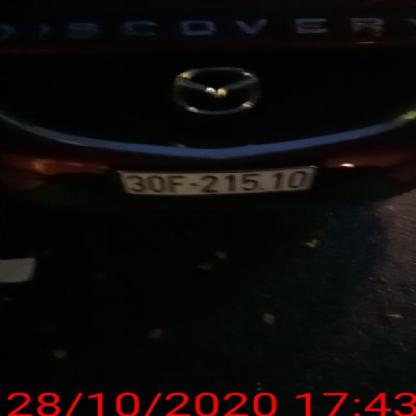biensoxe: (122, 164, 317, 201)
